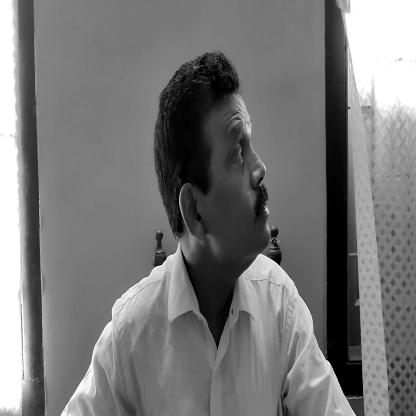Distracted: (152, 50, 280, 278)
